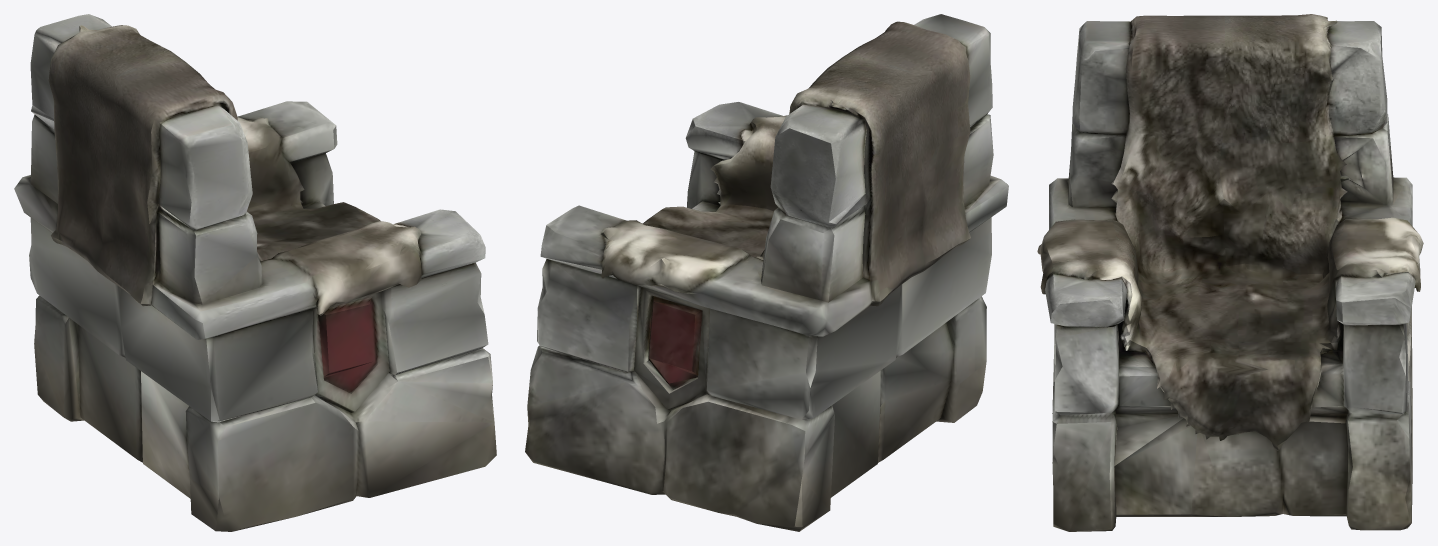
File: obj_throne.glb
3 renders of one model, left to right at view 1: azimuth 30°, elevation 25°; view 2: azimuth 150°, elevation 25°; view 3: azimuth 270°, elevation 25°, orthographic. The views are drawn at different scales.
Visible parts, largest first — view 1: model; view 2: model; view 3: model.
Boxes of the visible parts, <box> form: model: <box>14,14,496,531</box>; model: <box>525,14,1008,531</box>; model: <box>1037,14,1423,531</box>.
Bounding box in the file's own units: 0.8082 × 1 × 0.8982.
1 material, 1 textured.
